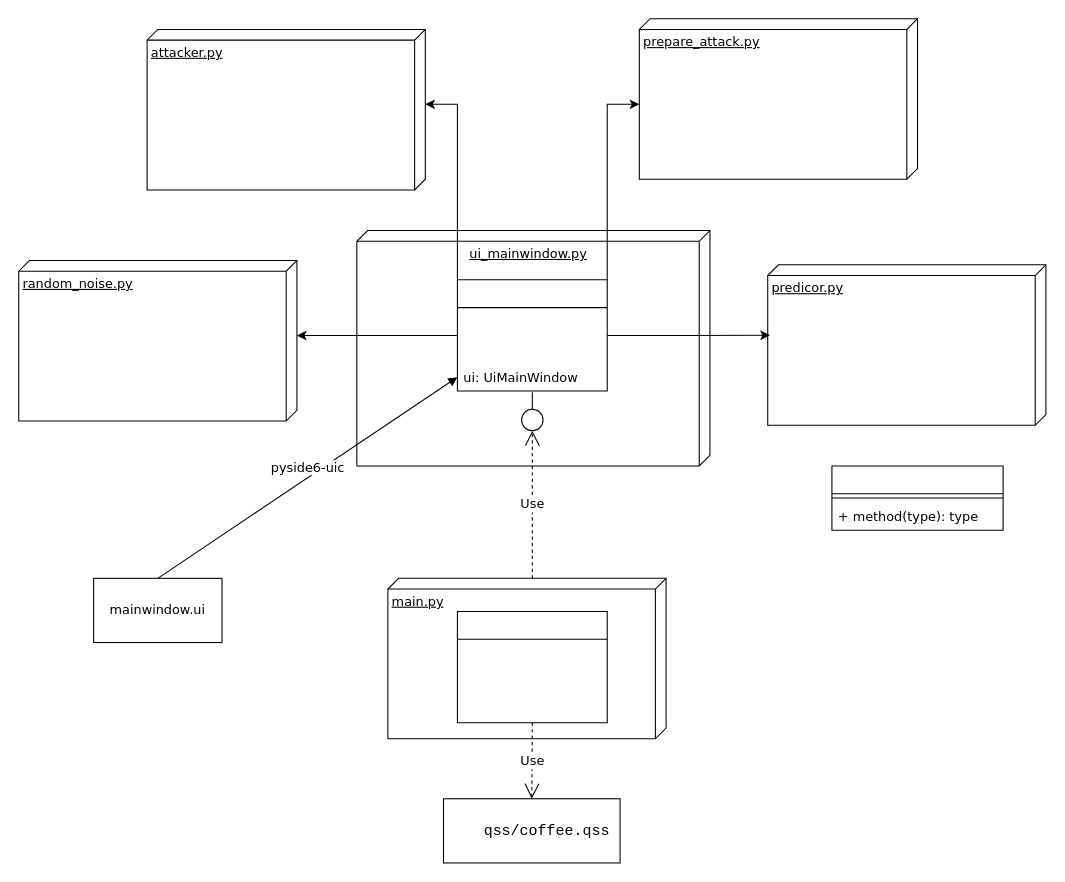
The diagram is 1065 pixels wide and 882 high, and some of its shapes have lost their labels. Each missing label, with the box of its shape:
Classname: (831, 465, 1003, 530)
QApplication: (456, 610, 607, 723)
QMainWindow: (456, 279, 607, 391)
